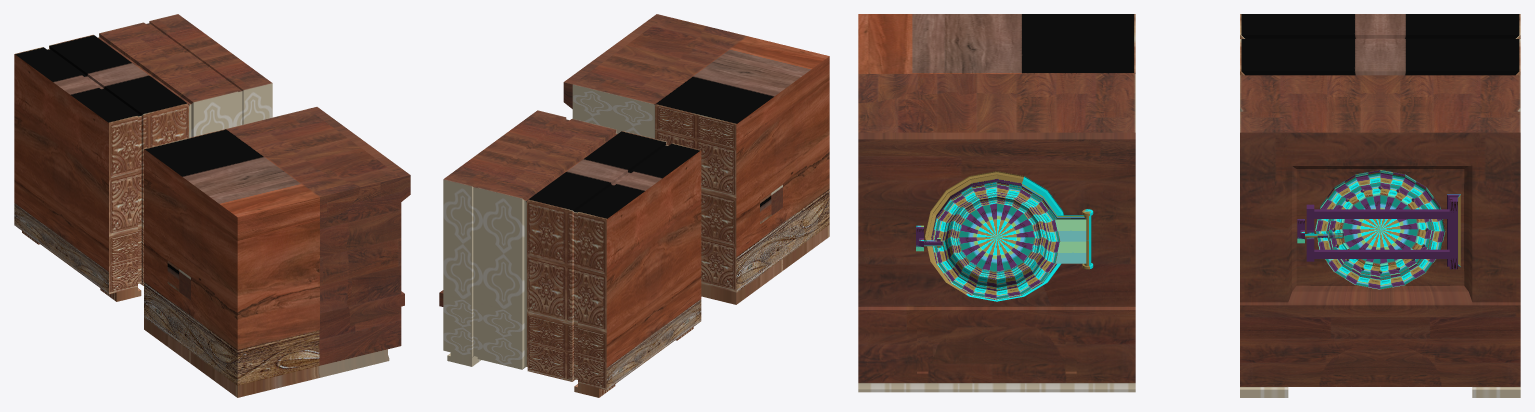
The model's file is WasherDryer1_MDL_PDH.fbx.
The picture shows the model from 3 angles, left to right: view 1: azimuth 30°, elevation 25°; view 2: azimuth 150°, elevation 25°; view 3: azimuth 270°, elevation 25°; orthographic projection. The views are drawn at different scales.
Visible parts, largest first — view 1: pCube21, pCube2; view 2: pCube2, pCube21; view 3: pCube2, pCube21.
Part boxes in pixels (bbox=[...]): pCube21: bbox=[144, 107, 410, 397]; pCube2: bbox=[14, 14, 272, 301]; pCube2: bbox=[439, 110, 701, 397]; pCube21: bbox=[563, 14, 829, 304]; pCube2: bbox=[1240, 14, 1520, 397]; pCube21: bbox=[858, 14, 1135, 392].
Bounding box in the file's own units: 92.01 × 205 × 91.6.
2 materials, 2 textured.
